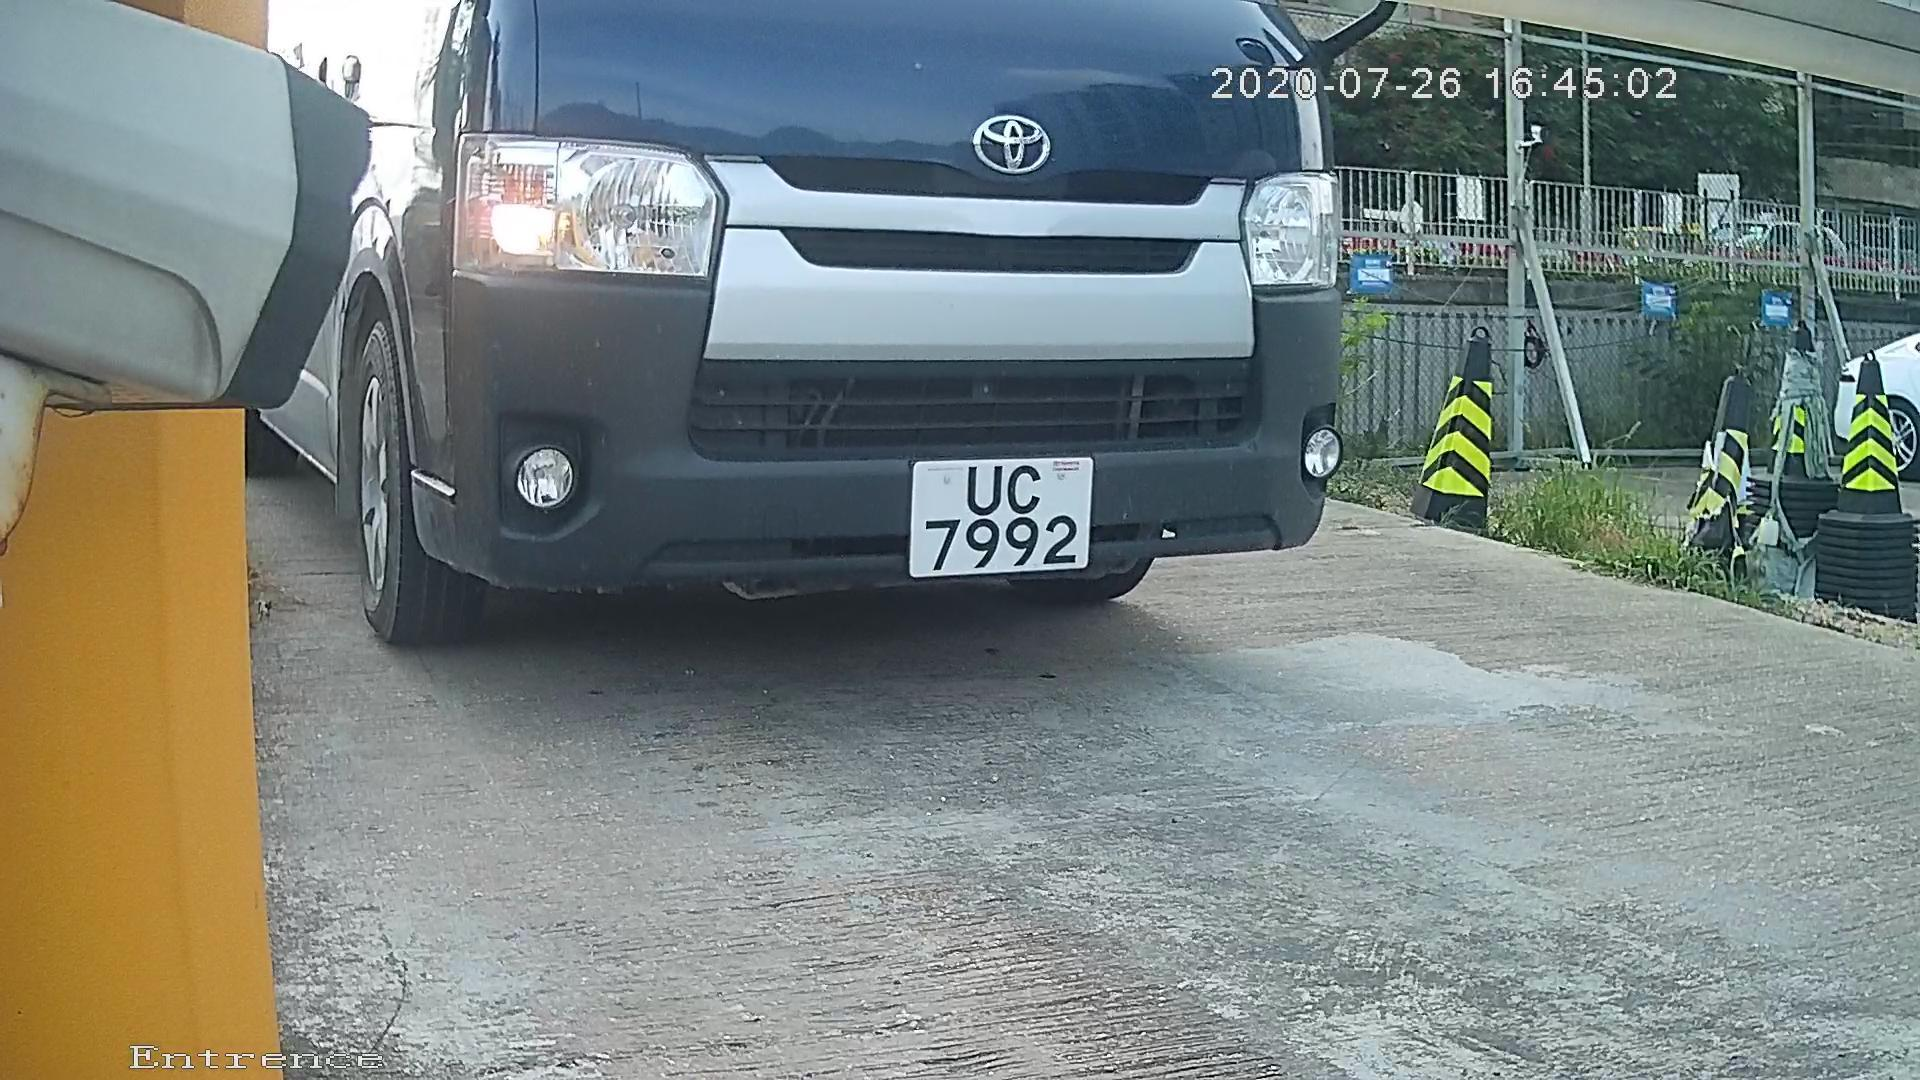privatecar: (223, 1, 1501, 684)
